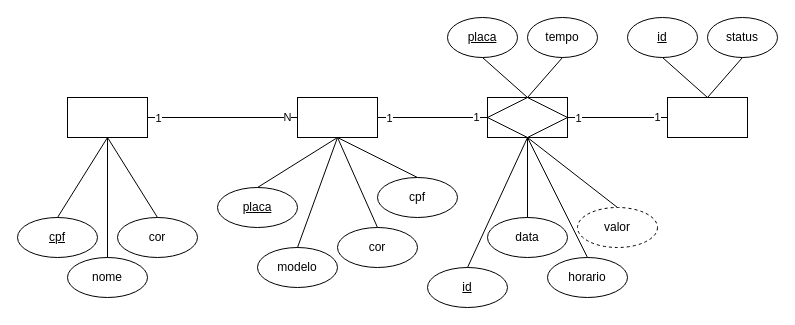
The diagram is 795 pixels wide and 325 high, and some of its shapes have lost their labels. The shapes that lost their labels are listed below. From the top down, each one's centre as x and y in pixels, then its label:
At (107,117): "Clientes".
At (337,117): "Carros".
At (527,117): "Entradas".
At (707,117): "Vagas".
